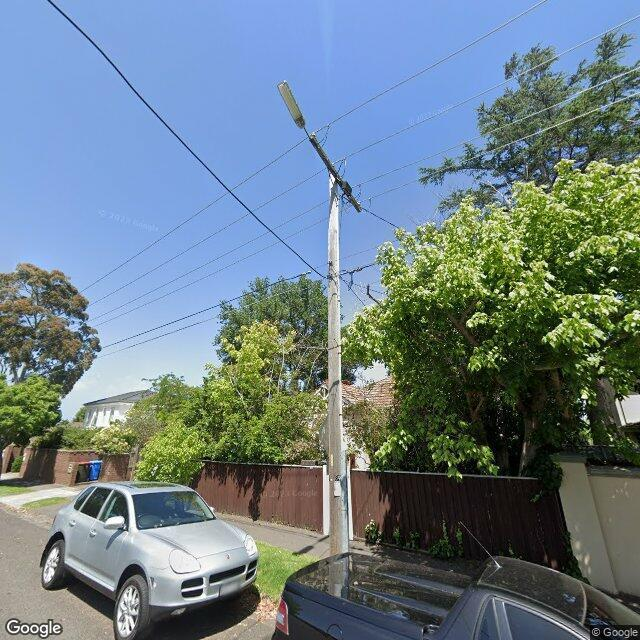crossarm: (309, 135, 362, 212)
streetlight: (277, 80, 310, 138)
timber-pole: (328, 170, 349, 557)
